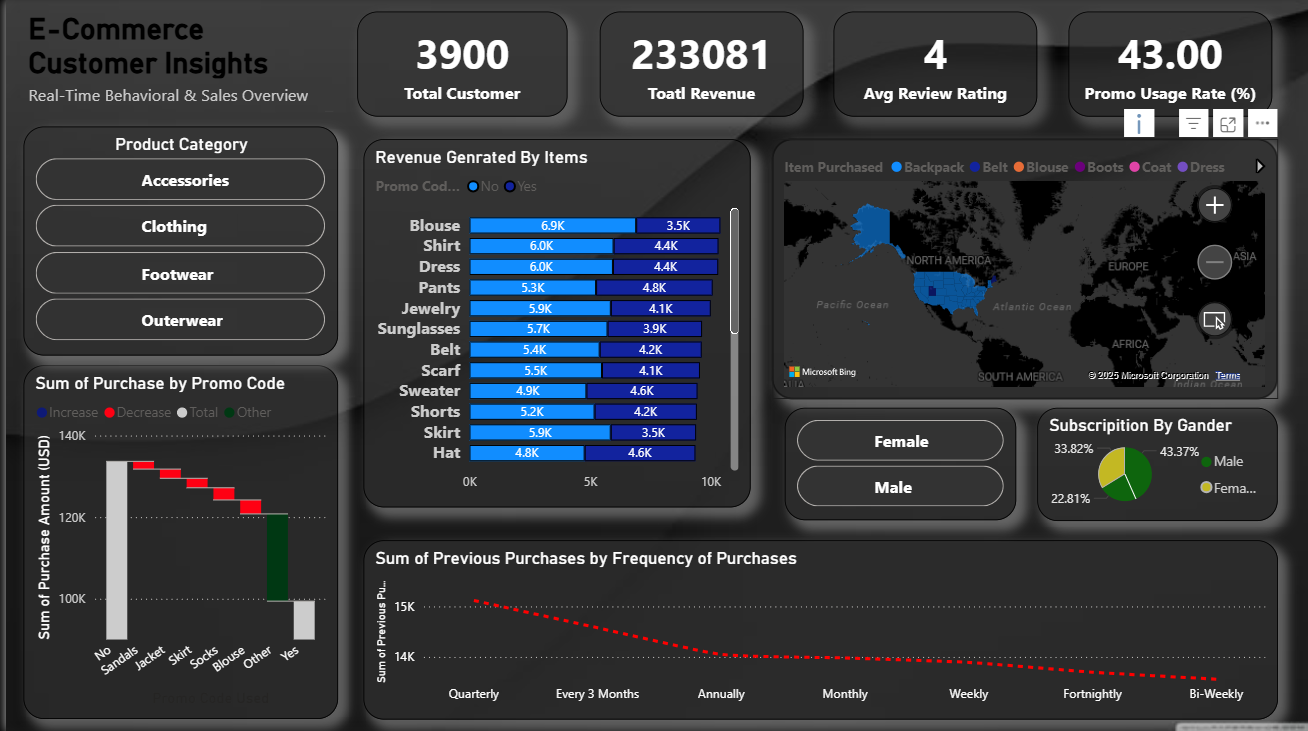

What the dashboard file says about the page in this screenshot:
{"tool":"powerbi","page":{"name":"Customer Insights","canvas":[1280,720],"ordinal":0},"visuals":[{"type":"textbox","title":"E-Commerce Customer Insights","box":[17.5,12.5,308.8,102.5],"z":0},{"type":"card","fields":{"Values":["Shopping Behavior.Total Customer"]},"box":[344.8,12.3,206.1,103.1],"z":1000},{"type":"card","fields":{"Values":["Shopping Behavior.Promo Usage Rate (%)"]},"box":[1043,12.3,200,103.1],"z":2000},{"type":"card","fields":{"Values":["Shopping Behavior.Avg Review Rating"]},"box":[812.3,12.3,200,103.1],"z":3000},{"type":"card","fields":{"Values":["Shopping Behavior.Toatl Revenue"]},"box":[582.8,12.3,200,103.1],"z":4000},{"type":"barChart","title":"Revenue Genrated By Items","fields":{"Y":["Shopping Behavior.Toatl Revenue"],"Category":["Shopping Behavior.Item Purchased"],"Series":["Shopping Behavior.Promo Code Used"]},"box":[350.9,137.4,380.4,362],"z":5000},{"type":"filledMap","fields":{"Category":["Shopping Behavior.Location"],"Series":["Shopping Behavior.Item Purchased"]},"box":[752.6,137.5,496.3,255.1],"z":6000},{"type":"pieChart","title":"Subscripition By Gander","fields":{"Category":["Shopping Behavior.Gender"],"Series":["Shopping Behavior.Subscription Status"],"Y":["Sum(Shopping Behavior.Age)"]},"box":[1012.7,401.3,236.3,111.3],"z":7000},{"type":"waterfallChart","title":"Sum of Purchase by Promo Code ","fields":{"Category":["Shopping Behavior.Promo Code Used"],"Y":["Sum(Shopping Behavior.Purchase Amount (USD))"],"Breakdown":["Shopping Behavior.Item Purchased"]},"box":[17.5,360.1,308.8,347.6],"z":8000},{"type":"lineChart","fields":{"Category":["Shopping Trends.Frequency of Purchases"],"Y":["Sum(Shopping Trends.Previous Purchases)"]},"box":[351.3,531.4,897.7,176.3],"z":9000},{"type":"advancedSlicerVisual","title":"Product Category","fields":{"Values":["Shopping Behavior.Category"]},"box":[17.5,125,308.8,225],"z":10000},{"type":"advancedSlicerVisual","fields":{"Values":["Shopping Behavior.Gender"]},"box":[763.9,401.3,227.5,110],"z":11000}]}

Visuals, with their boxes in screenshot pixels (x1, y1, x2, y2), scaled from the page's 1280x720 canvas onto the 1308x731 screenshot:
"E-Commerce Customer Insights" textbox: 18:13:333:117
card - Shopping Behavior.Total Customer: 352:12:563:117
card - Shopping Behavior.Promo Usage Rate (%): 1066:12:1270:117
card - Shopping Behavior.Avg Review Rating: 830:12:1034:117
card - Shopping Behavior.Toatl Revenue: 596:12:800:117
"Revenue Genrated By Items" barChart: 359:139:747:507
filledMap - Shopping Behavior.Location x Shopping Behavior.Item Purchased: 769:140:1276:399
"Subscripition By Gander" pieChart: 1035:407:1276:520
"Sum of Purchase by Promo Code " waterfallChart: 18:366:333:719
lineChart - Shopping Trends.Frequency of Purchases x Sum(Shopping Trends.Previous Purchases): 359:540:1276:719
"Product Category" advancedSlicerVisual: 18:127:333:355
advancedSlicerVisual - Shopping Behavior.Gender: 781:407:1013:519
